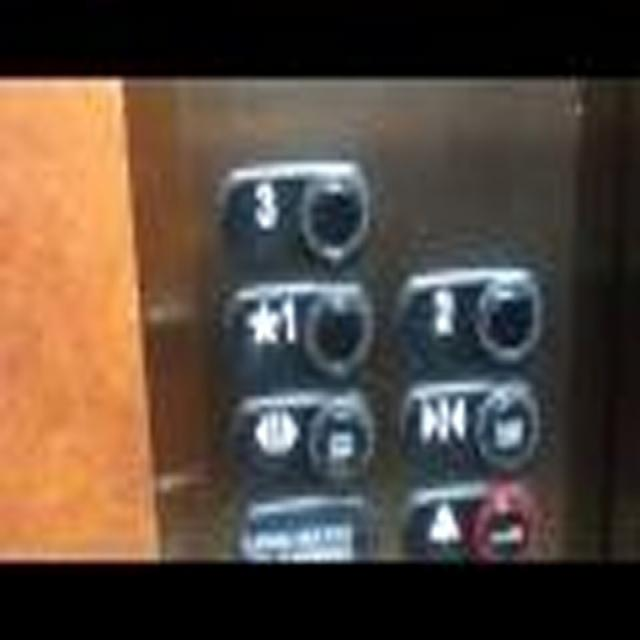2: (396, 264, 543, 365)
3: (218, 158, 372, 270)
alarm: (402, 483, 535, 564)
close: (397, 383, 539, 473)
open: (227, 386, 373, 482)
s1: (221, 281, 373, 376)
